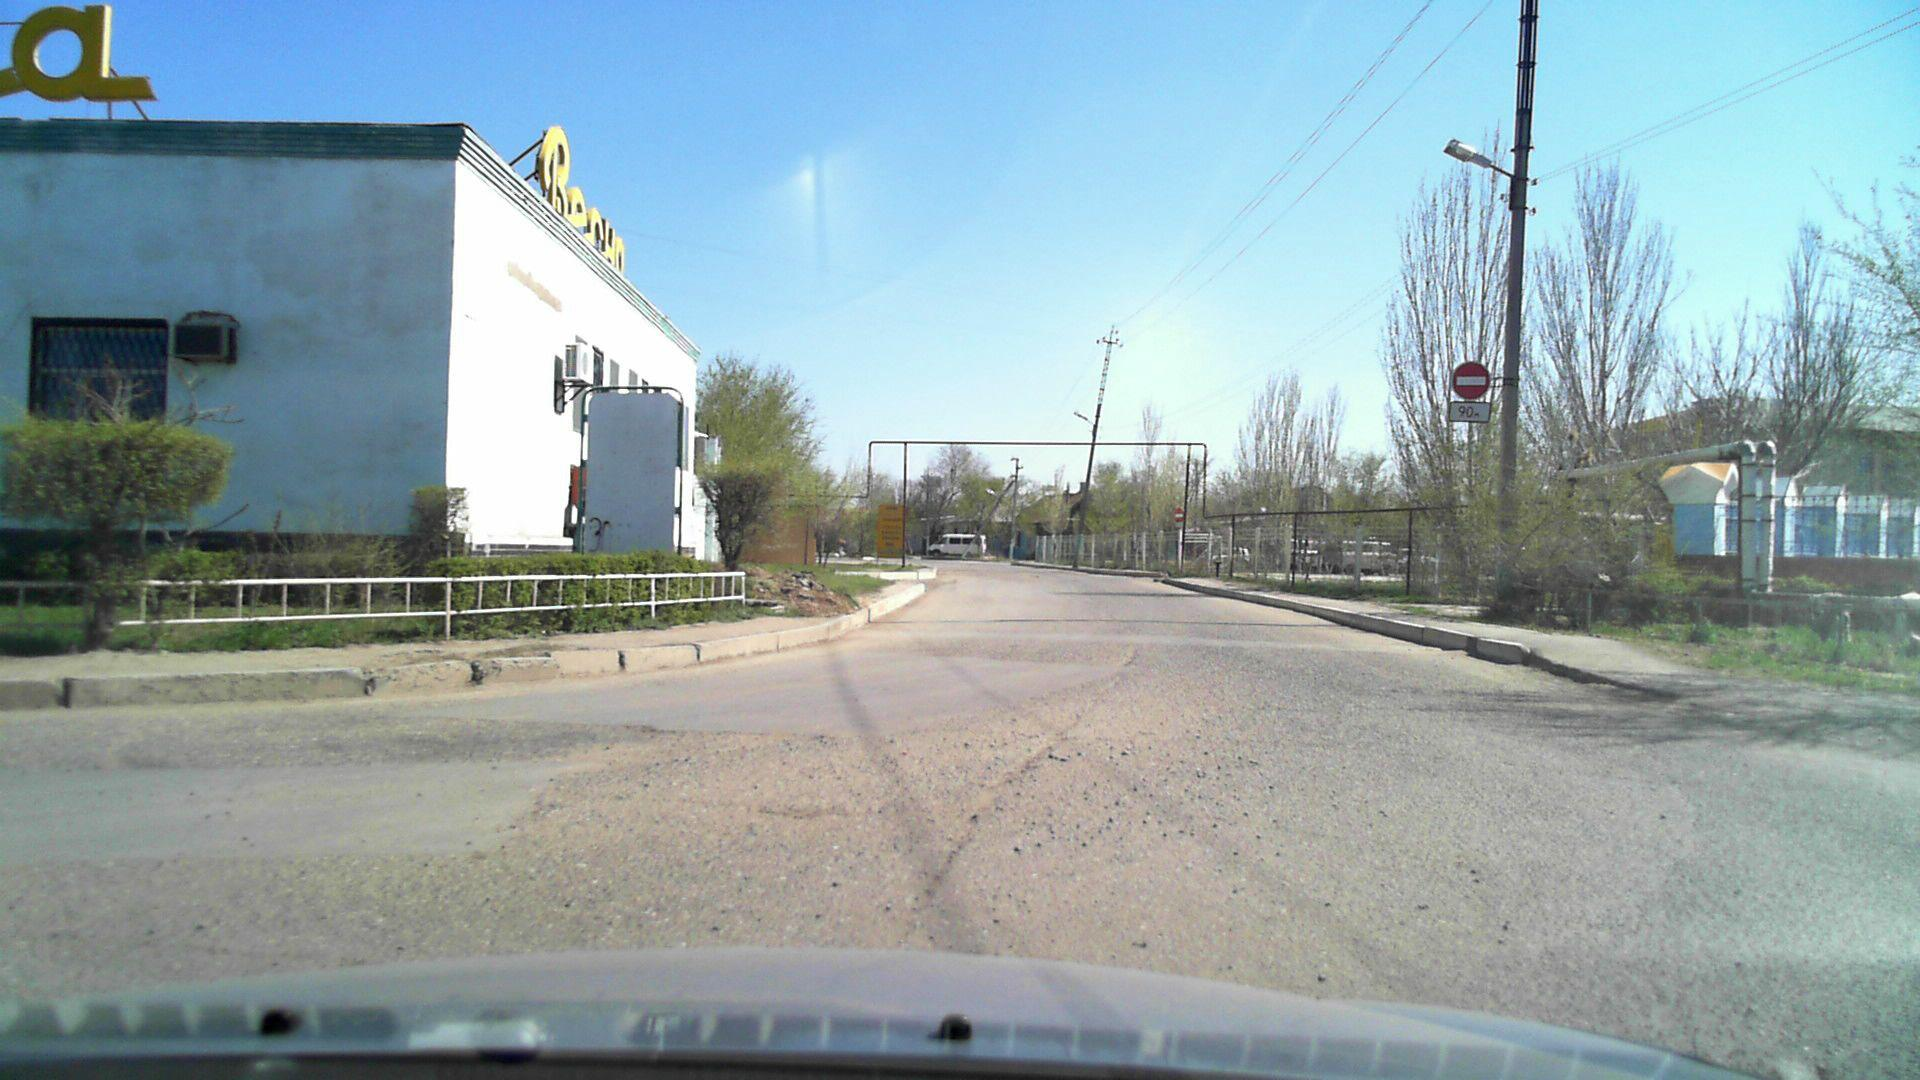3_1: (1448, 359, 1490, 398), (1448, 400, 1491, 423), (1171, 506, 1184, 522)
